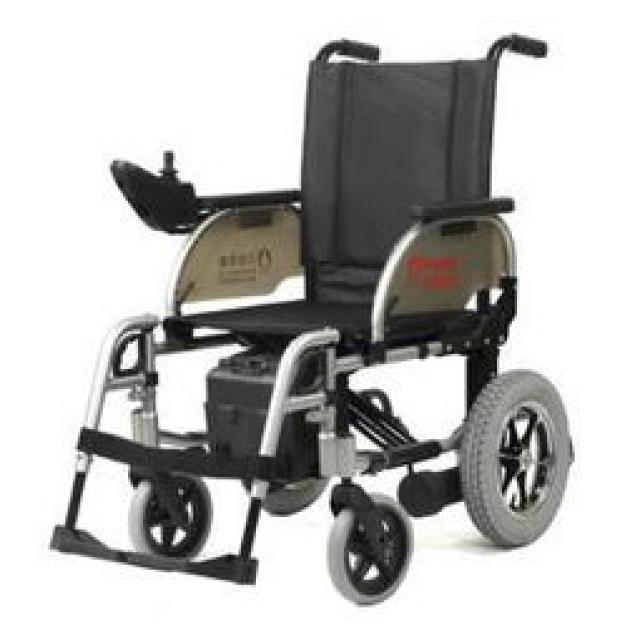wheelchairs: (55, 39, 578, 591)
